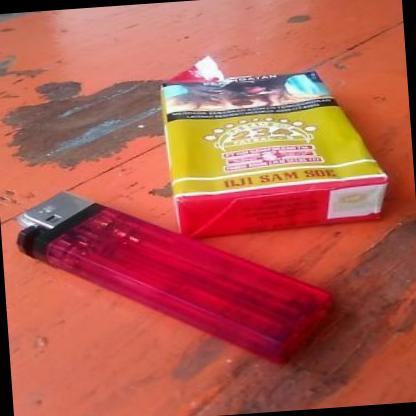objects: (161, 66, 392, 239)
